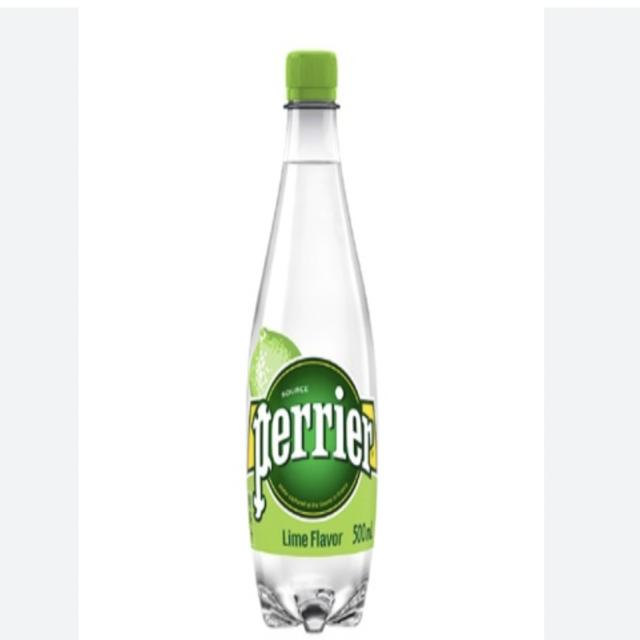recyclable: (238, 24, 383, 640)
